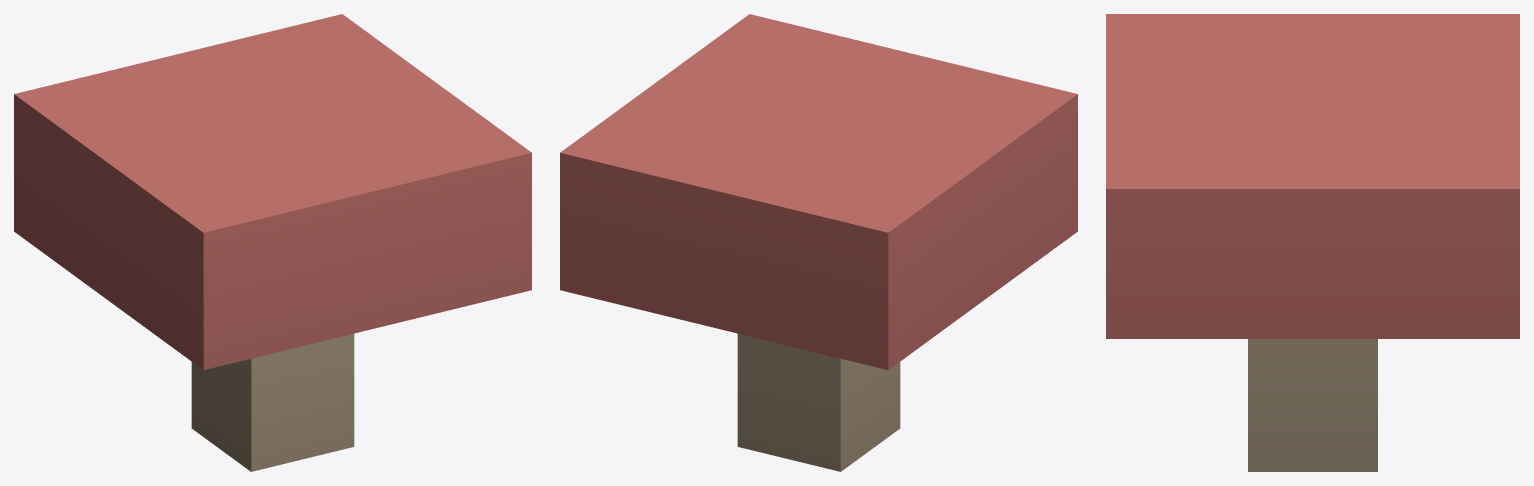
Rendered from mushroom.glb.
3 views of the same model, side by side, from view 1: azimuth 30°, elevation 25°; view 2: azimuth 150°, elevation 25°; view 3: azimuth 270°, elevation 25° (orthographic). The views are drawn at different scales.
Visible parts, largest first — view 1: root; view 2: root; view 3: root.
Boxes of the visible parts, bbox=[...] form: root: bbox=[14, 14, 531, 471]; root: bbox=[560, 14, 1077, 471]; root: bbox=[1106, 14, 1519, 471].
Bounding box in the file's own units: 0.7 × 0.64 × 0.7.
